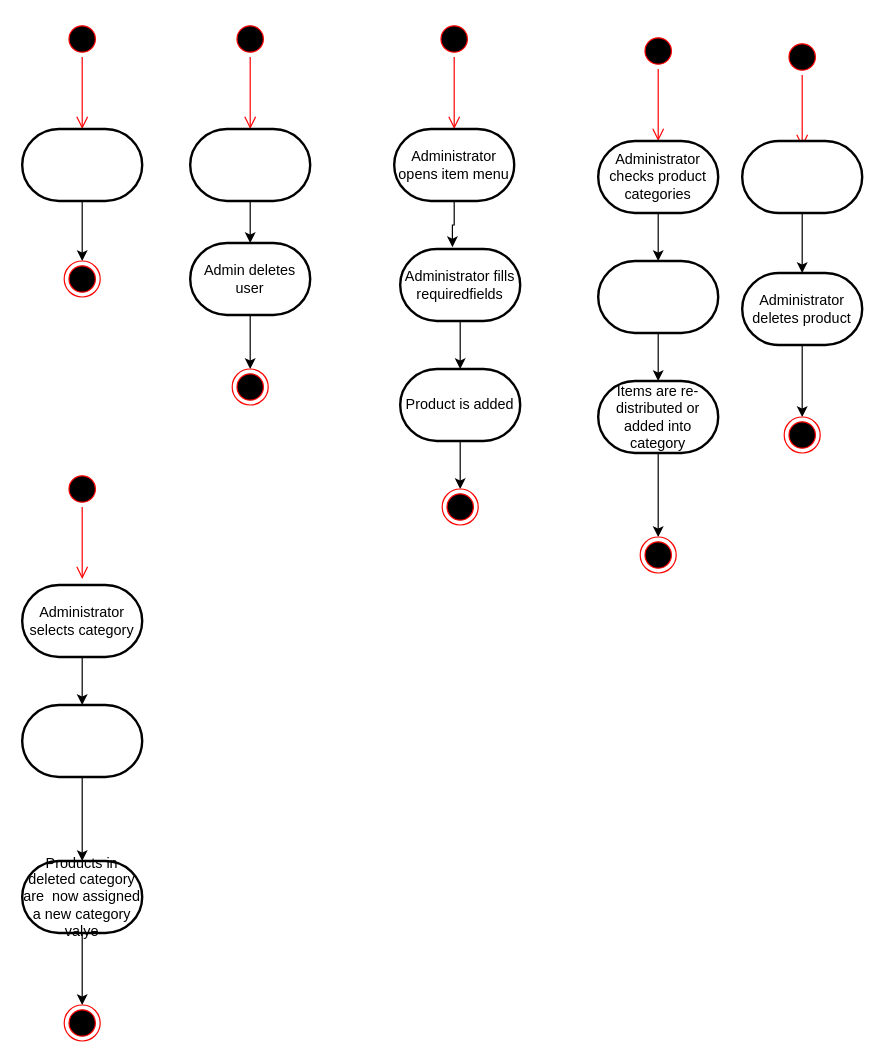
Image size: 883x1062. Some labels were removed from this diagram. The centre of each missing label's shape, as x and y in pixels:
"Admin selects user" belongs at (x=249, y=164).
"Administrator adds new category" belongs at (x=657, y=296).
"Administrator deletes category" belongs at (x=81, y=740).
"Administrator selects product" belongs at (x=801, y=176).
"User selects log out" belongs at (x=81, y=164).
